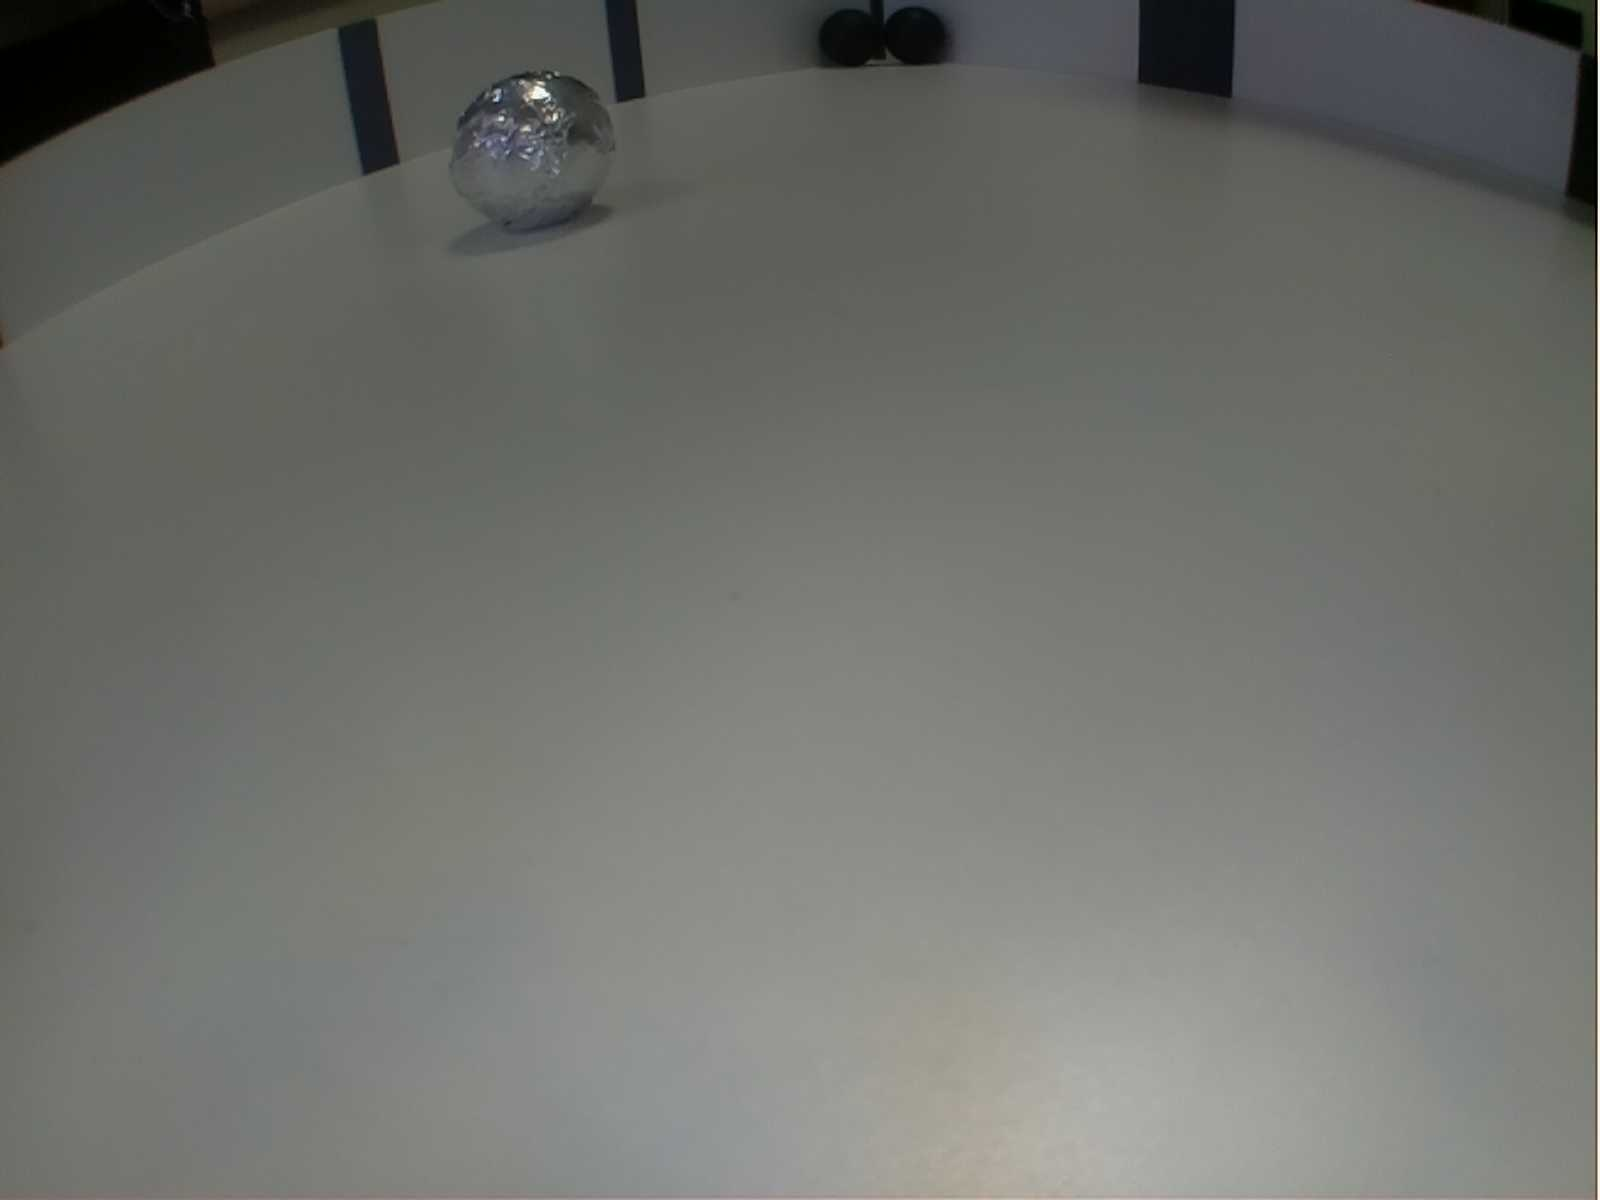bianca: (440, 69, 619, 238)
nera: (883, 5, 952, 68), (813, 6, 876, 71)
